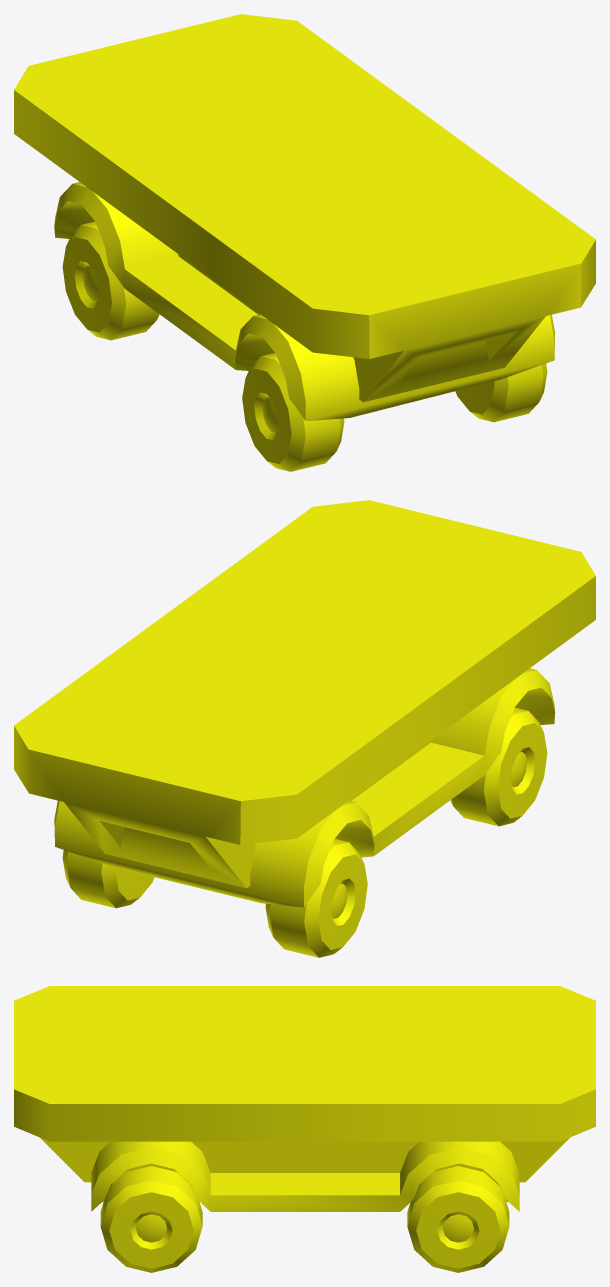
Rendered from kaykit-spacetruck-trailer.glb.
The picture shows the model from 3 angles, top to bottom: view 1: azimuth 30°, elevation 25°; view 2: azimuth 150°, elevation 25°; view 3: azimuth 270°, elevation 25°; orthographic projection. The views are drawn at different scales.
Visible parts, largest first — view 1: spacetruck_trailer; view 2: spacetruck_trailer; view 3: spacetruck_trailer.
Part boxes in pixels (x1=…): spacetruck_trailer: x1=14, y1=14, x2=595, y2=471; spacetruck_trailer: x1=14, y1=500, x2=595, y2=957; spacetruck_trailer: x1=14, y1=986, x2=595, y2=1272.
Bounding box in the file's own units: 0.48 × 0.3382 × 1.
